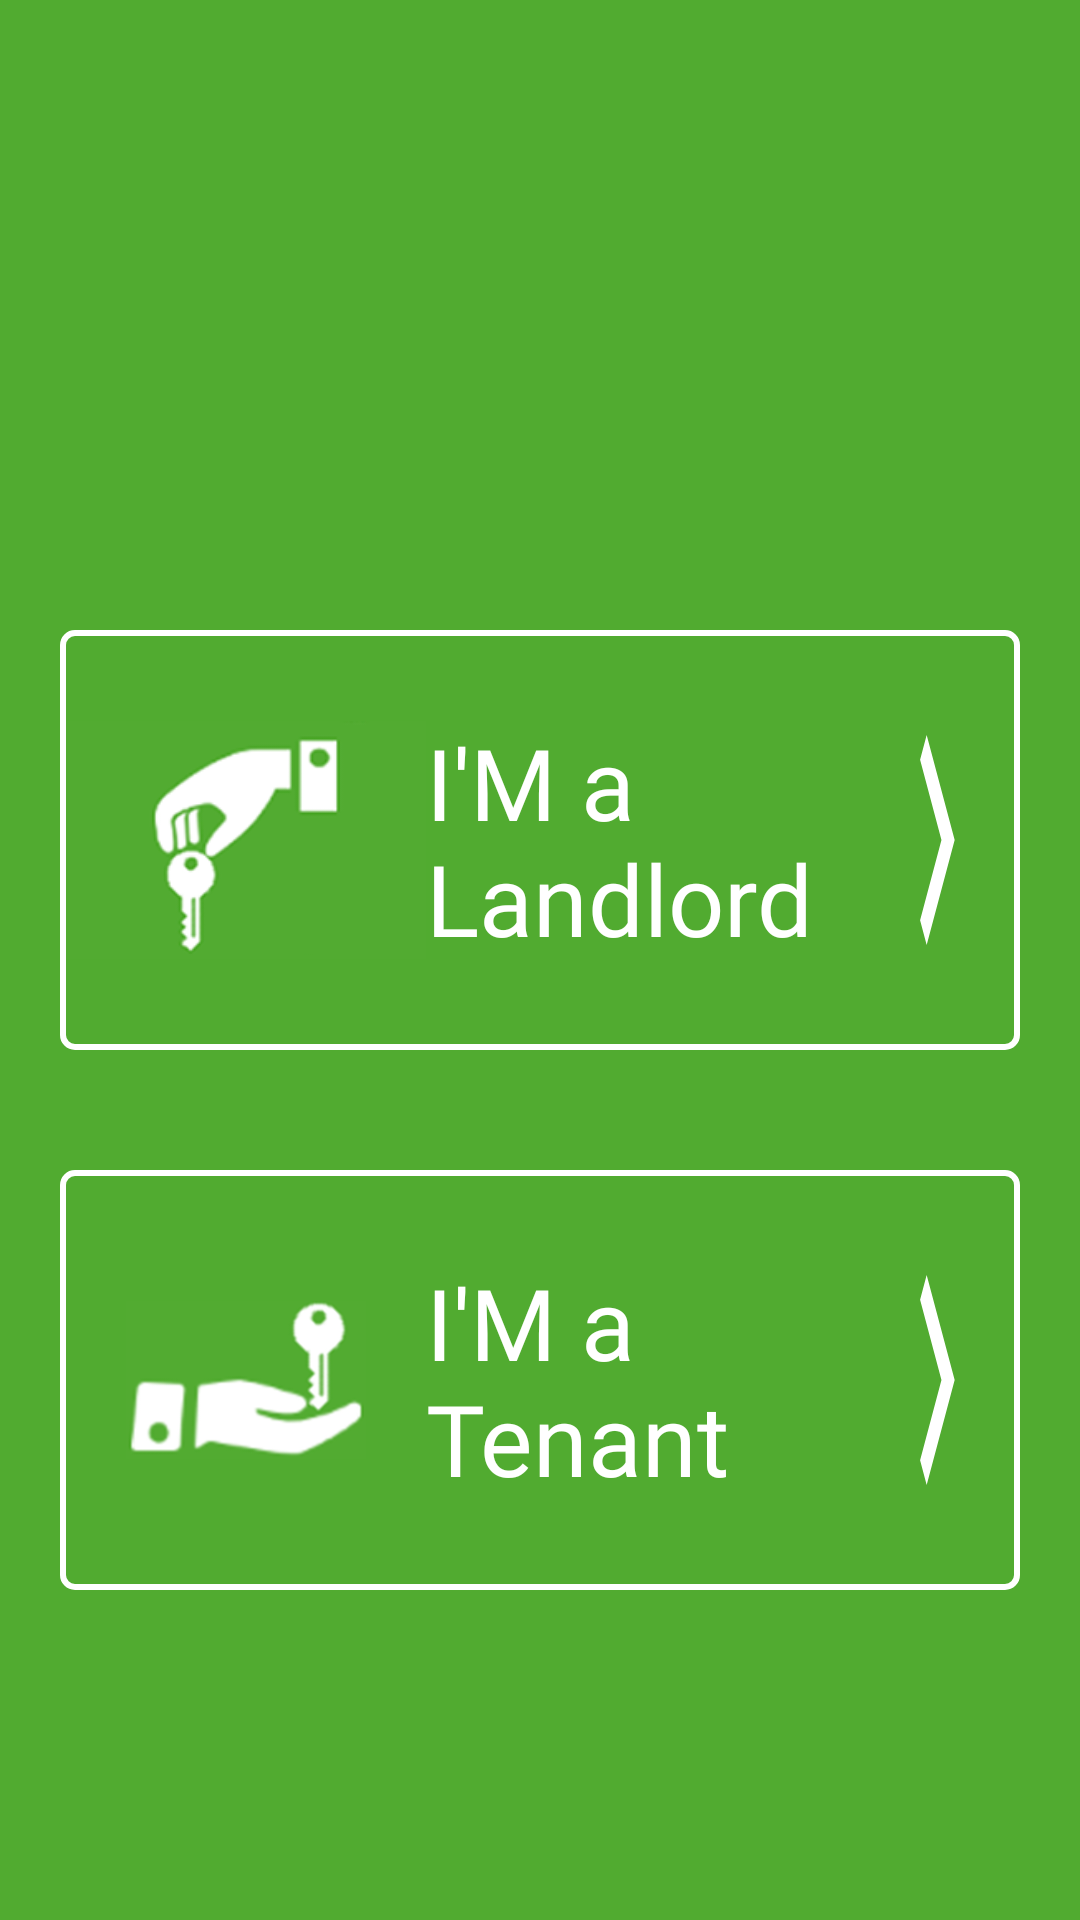

Where icons sit on this 1080×1920 app screen, as [left=x1, top=y1, right=x2, bottom=y2]:
landload: [left=154, top=739, right=338, bottom=951]
right: [left=920, top=735, right=955, bottom=945], [left=920, top=1275, right=955, bottom=1485]
